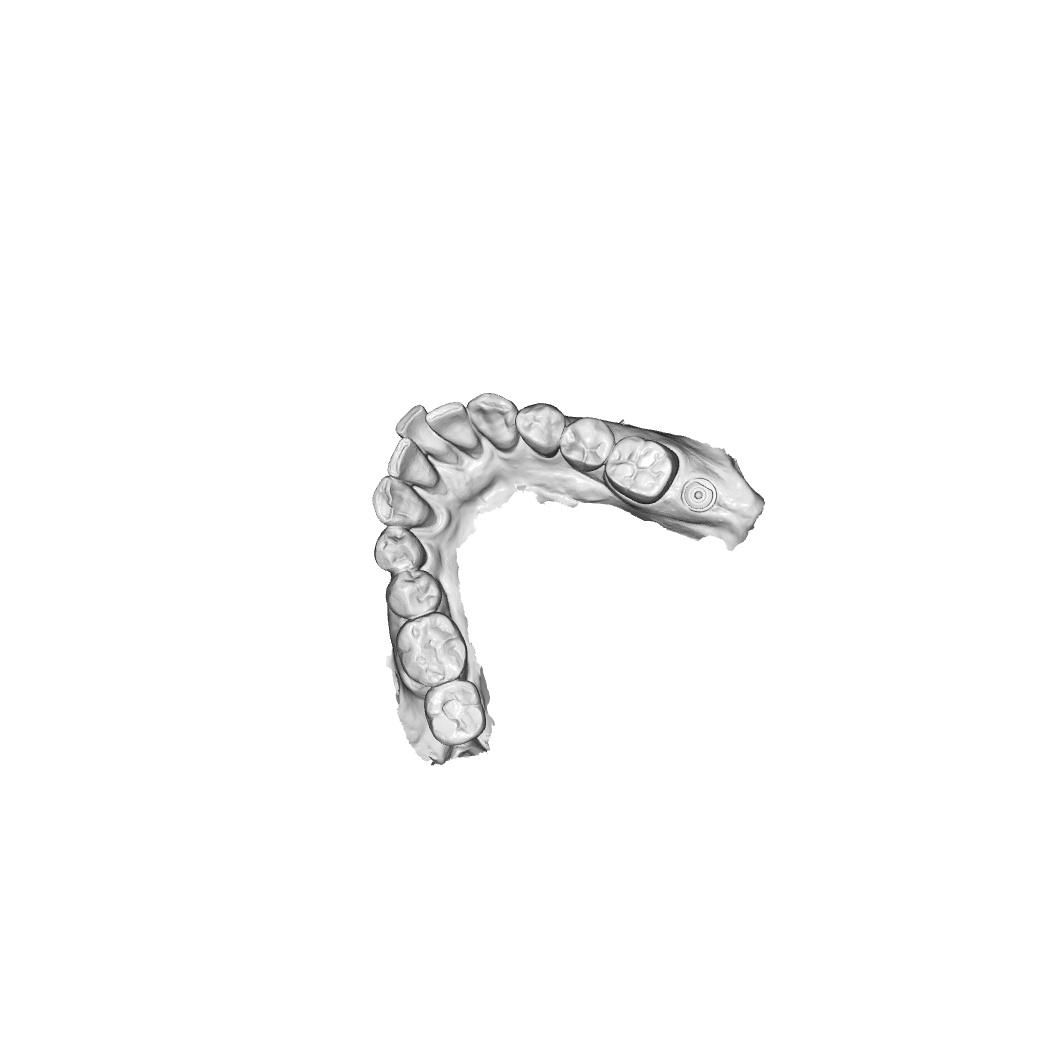canine: (371, 476, 437, 530), (467, 391, 519, 453)
implant: (680, 476, 718, 514)
incisor: (386, 436, 441, 490), (424, 400, 470, 440), (394, 403, 431, 445)
molar: (394, 611, 468, 689), (603, 435, 680, 505), (423, 677, 487, 746)
premolar: (558, 415, 616, 474), (385, 568, 443, 621), (514, 402, 567, 460), (372, 526, 428, 575)
